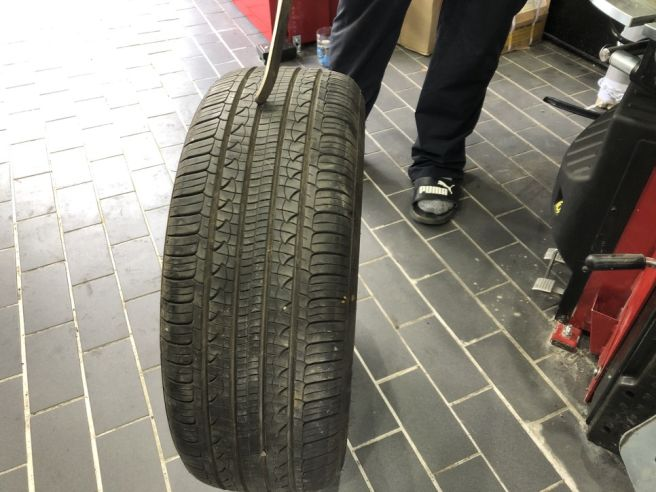middle_condition: (159, 110, 361, 484)
